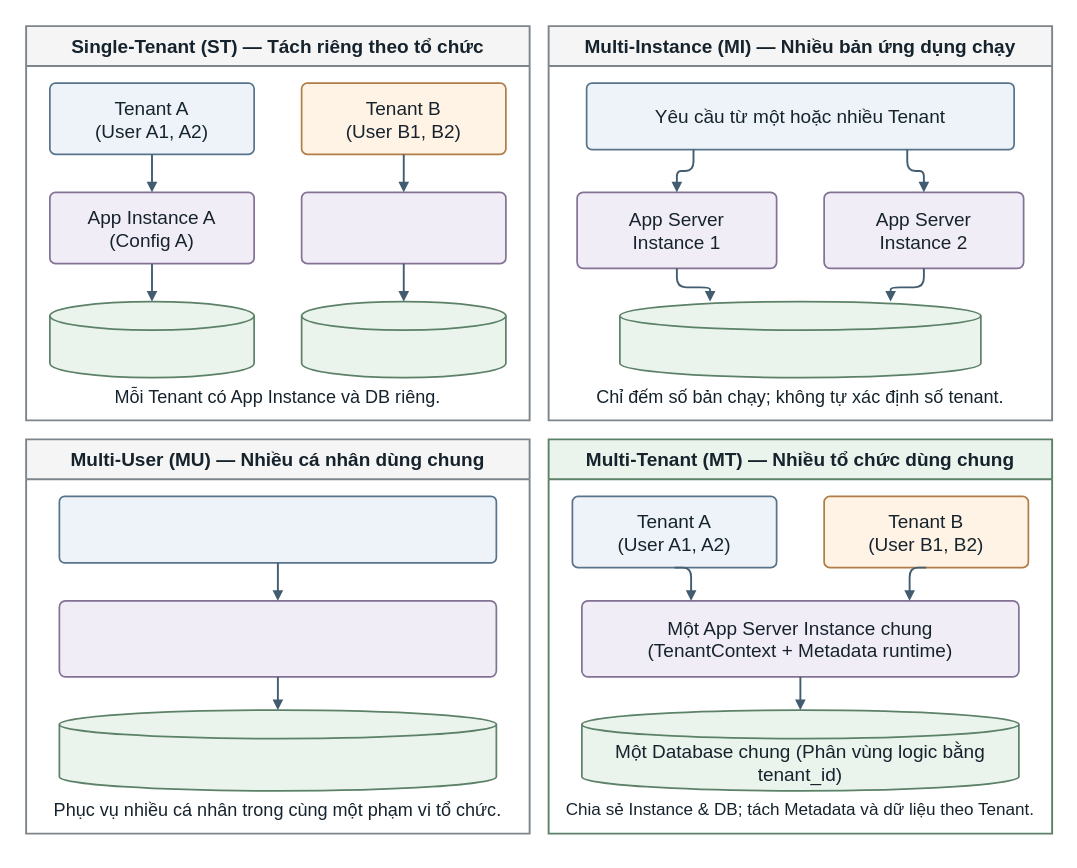
This 1077x868 diagram has some shape labels left out. The shapes that lost their labels are listed below. From the top down, each one's centre as x and y in pixels, then its label:
the point at 403,227: App Instance B (Config B)
the point at 152,339: DB A
the point at 403,339: DB B
the point at 800,339: Database riêng hoặc Database chung
the point at 277,529: User 1, User 2, User 3 (chỉ có user_id)
the point at 277,638: Một App Server Instance chung (Giao diện & cấu hình cố định chung)
the point at 277,750: Một Database chung (Gắn user_id, không có tenant_id)
